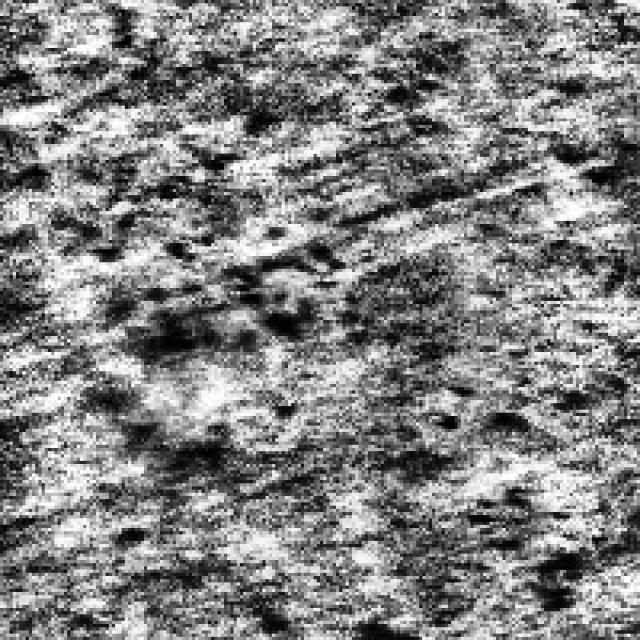Crazing: (74, 163, 346, 442), (429, 387, 576, 621)
